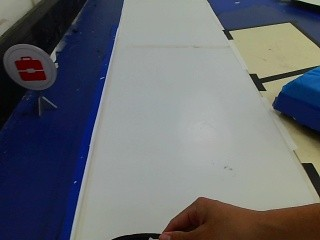company: (4, 41, 54, 94)
